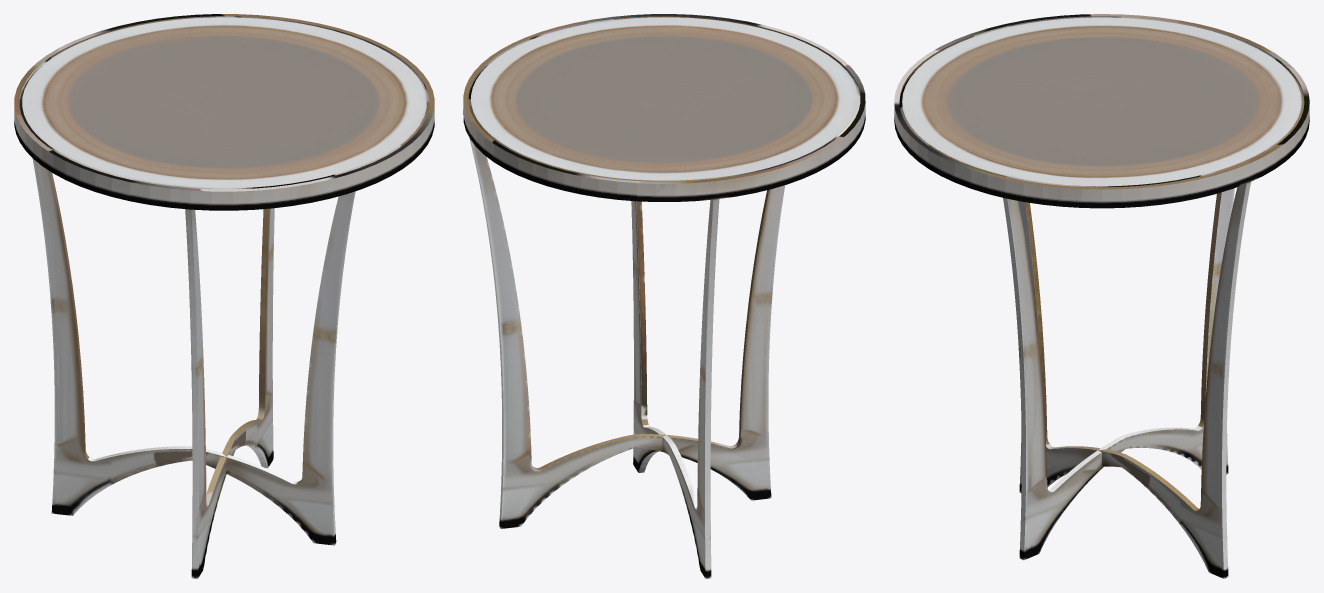
Rendered from edited_mesh.glb.
3 renders of one model, left to right at view 1: azimuth 30°, elevation 25°; view 2: azimuth 150°, elevation 25°; view 3: azimuth 270°, elevation 25°, orthographic. The views are drawn at different scales.
Parts seen in each view (by area): view 1: solid_001_wire; view 2: solid_001_wire; view 3: solid_001_wire.
Part boxes in pixels (left/top/right/bottom): solid_001_wire: left=14, top=14, right=434, bottom=578; solid_001_wire: left=463, top=14, right=865, bottom=578; solid_001_wire: left=894, top=14, right=1309, bottom=578.
Bounding box in the file's own units: 1.23 × 1.38 × 1.23.
1 material, 1 textured.
